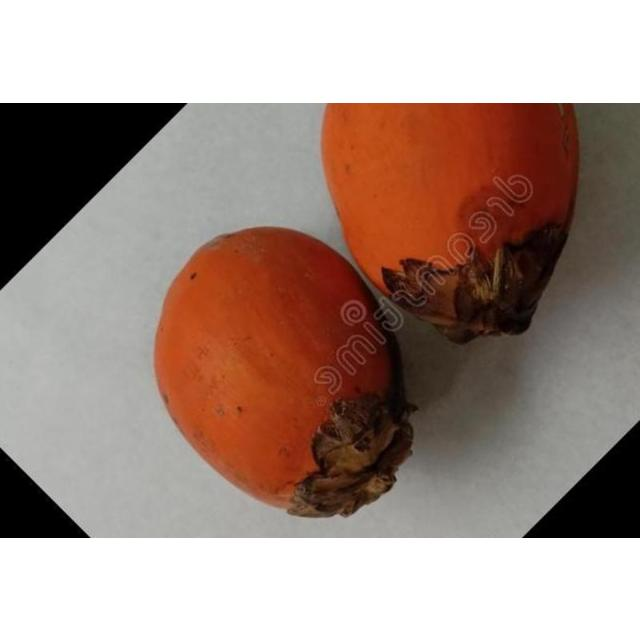good: (153, 226, 416, 518), (319, 102, 581, 344)
